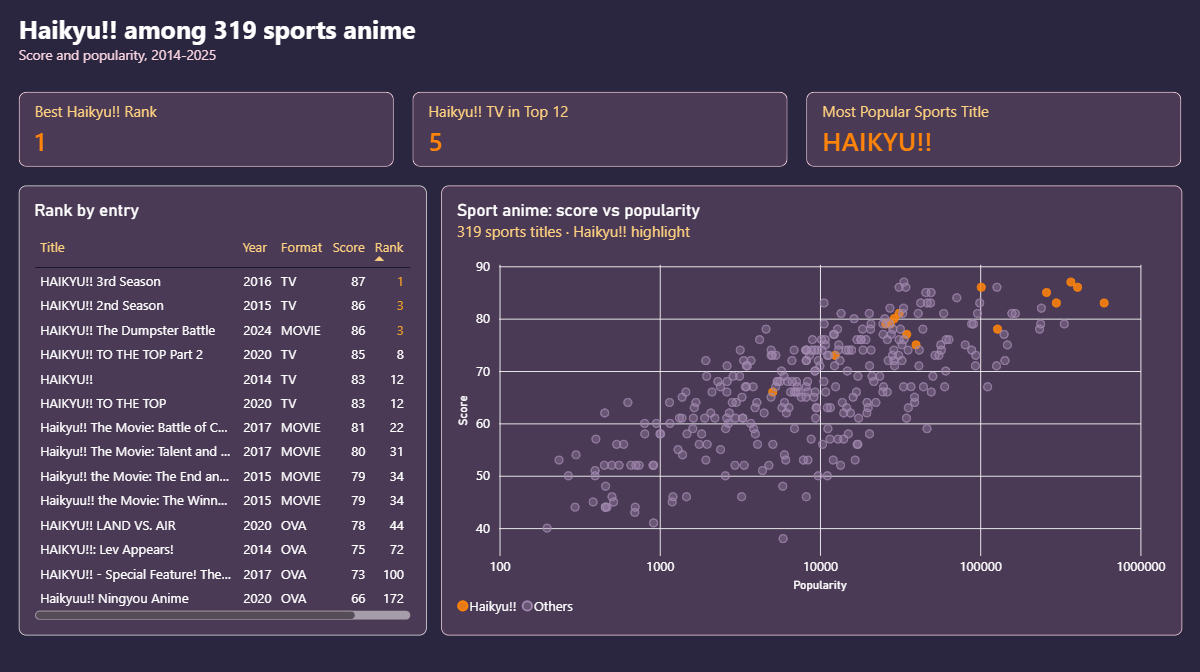

Layout of this report page (visuals, bound fields, positions):
{"tool":"powerbi","page":{"name":"Haikyu!!","canvas":[1280,720],"ordinal":1},"visuals":[{"type":"textbox","box":[20,15,800,80],"z":0},{"type":"cardVisual","fields":{"Data":["gold_sport_spotlight.Best Haikyuu Rank"]},"box":[20,100,400,80],"z":1000},{"type":"cardVisual","fields":{"Data":["gold_sport_spotlight.Haikyuu TV in Top 12"]},"box":[440,100,400,80],"z":2000},{"type":"cardVisual","fields":{"Data":["gold_sport_spotlight.Most Popular Spoprt Title"]},"box":[860,100,400,80],"z":3000},{"type":"scatterChart","title":"Sport anime: score vs popularity","fields":{"Category":["gold_sport_spotlight.title"],"Series":["gold_sport_spotlight.Series"],"X":["Sum(gold_sport_spotlight.popularity)"],"Y":["Sum(gold_sport_spotlight.score)"]},"box":[470,200,790,480],"z":4000},{"type":"tableEx","title":"Rank by entry","fields":{"Values":["gold_sport_spotlight.title","gold_sport_spotlight.season_year","gold_sport_spotlight.format","gold_sport_spotlight.score","gold_sport_spotlight.score_rank","gold_sport_spotlight.score_percentile"]},"box":[20,200,435,480],"z":5000}]}

Visuals, with their boxes in screenshot pixels (x1, y1, x2, y2), scaled from the page's 1280x720 canvas onto the 1200x672 screenshot:
textbox: locate(19, 14, 769, 89)
cardVisual - gold_sport_spotlight.Best Haikyuu Rank: locate(19, 93, 394, 168)
cardVisual - gold_sport_spotlight.Haikyuu TV in Top 12: locate(412, 93, 788, 168)
cardVisual - gold_sport_spotlight.Most Popular Spoprt Title: locate(806, 93, 1181, 168)
"Sport anime: score vs popularity" scatterChart: locate(441, 187, 1181, 635)
"Rank by entry" tableEx: locate(19, 187, 427, 635)
